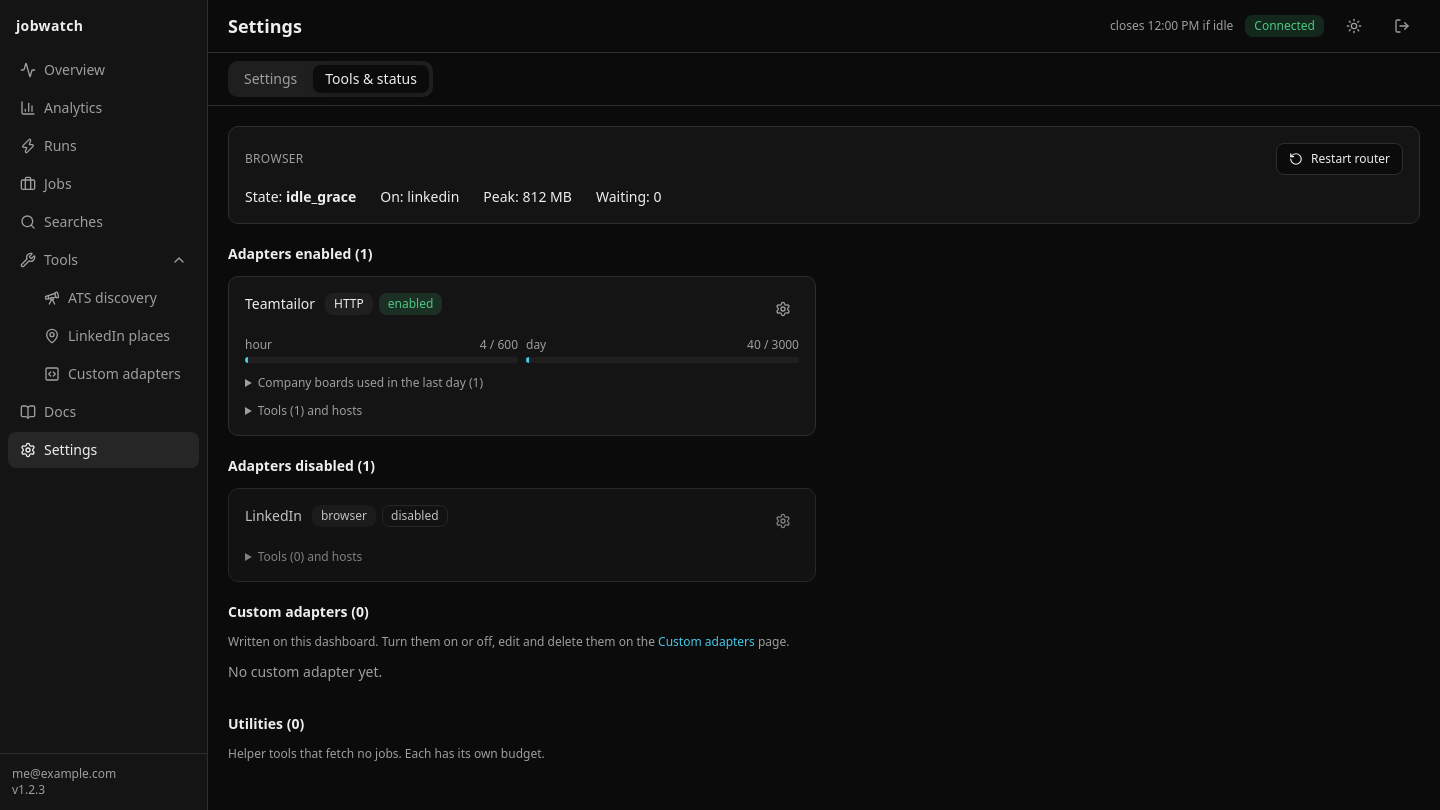
it: tools and status › enables an adapter from its settings menu, says what was added and that the connector must reconnect
The width and height of the screenshot is (1440, 810).
Click the button named "Settings of " at point(783, 521), box [767,505,799,537]
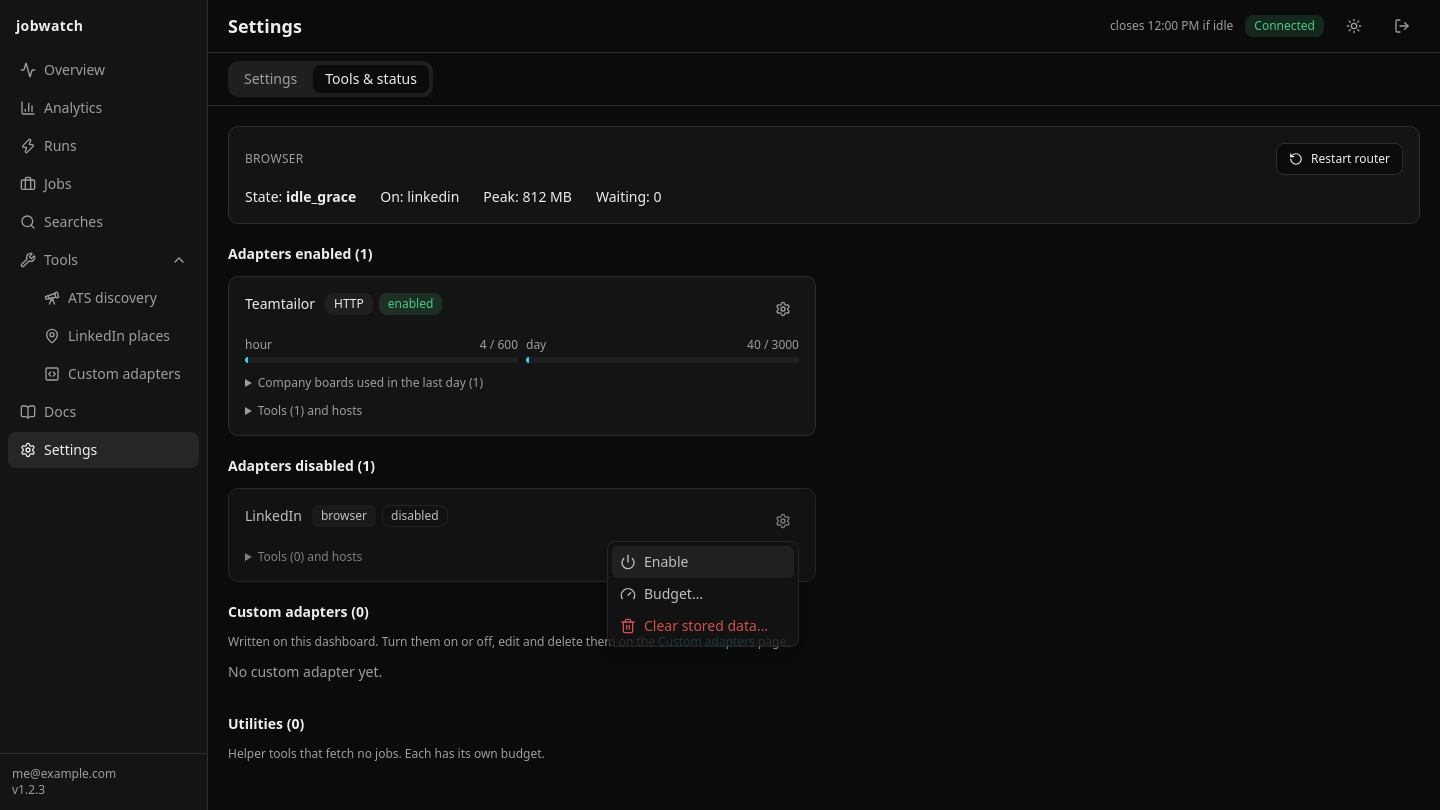
Click the menu item "Enable" at point(703, 562), box [612,546,794,578]
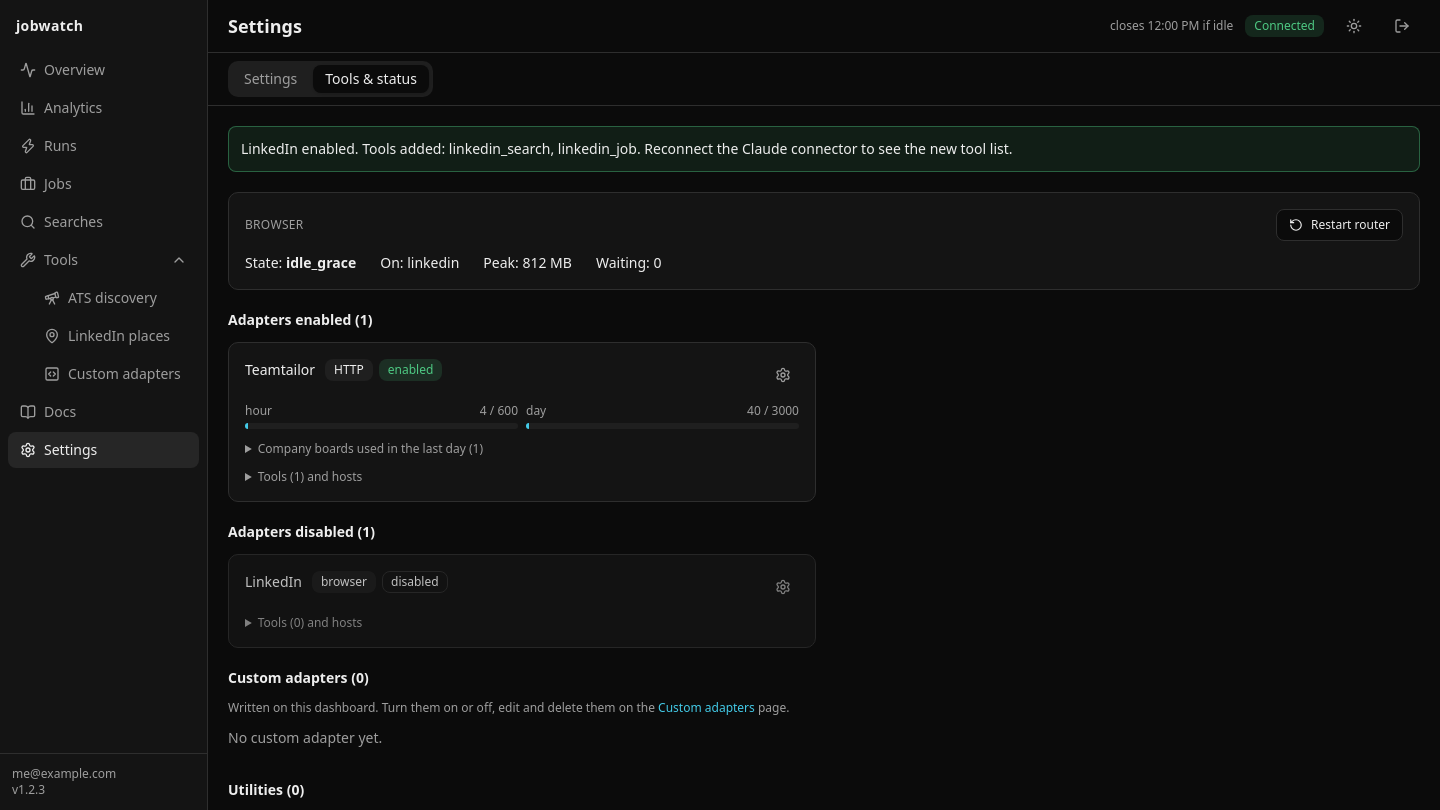
Expected: the message shows "LinkedIn enabled. Tools added: linkedin_search, linkedin_job. Reconnect the Claude connector to see the new tool list.", [241,139,1013,158]
